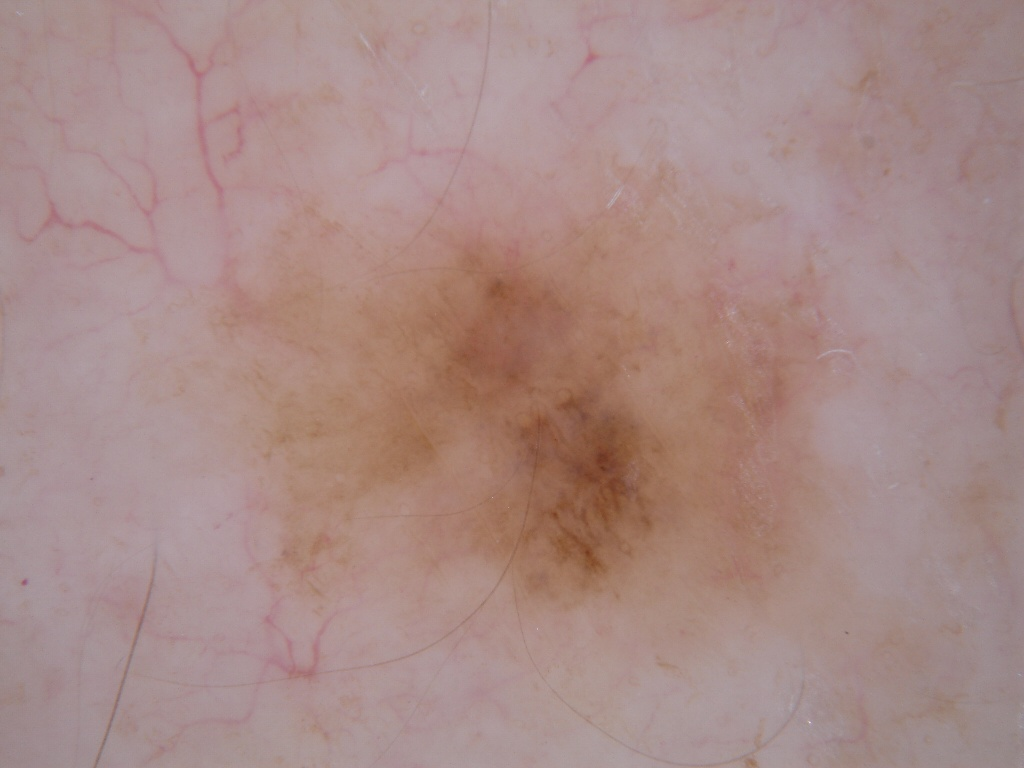Detected Lesion: (227, 178, 843, 652)
